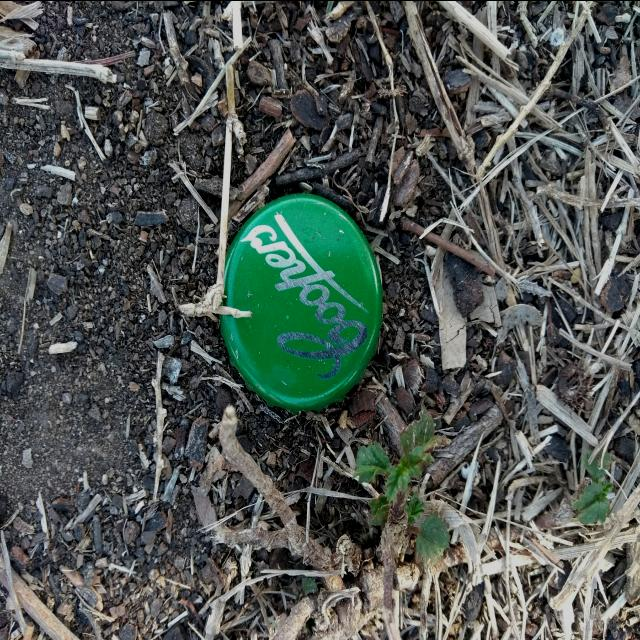Metal bottle cap: (219, 193, 383, 413)
